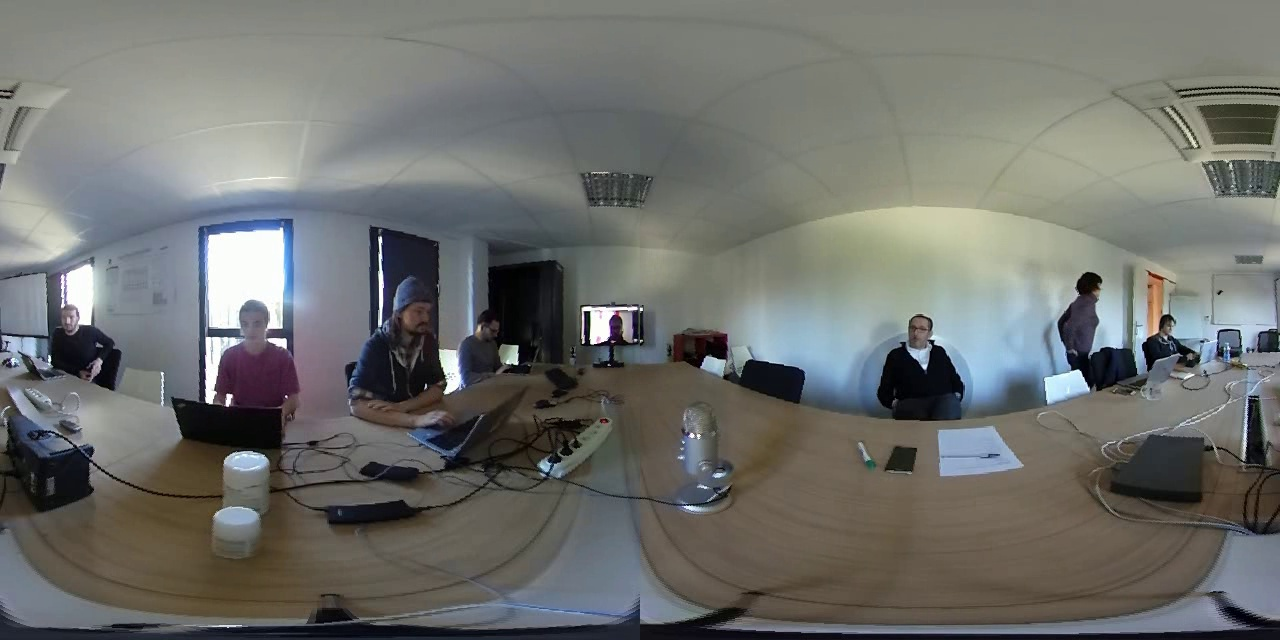person: (340, 255, 447, 416), (864, 300, 971, 418), (208, 292, 298, 416), (1052, 256, 1117, 377), (35, 295, 116, 383), (455, 288, 520, 377), (1143, 303, 1188, 373), (586, 309, 646, 338)
